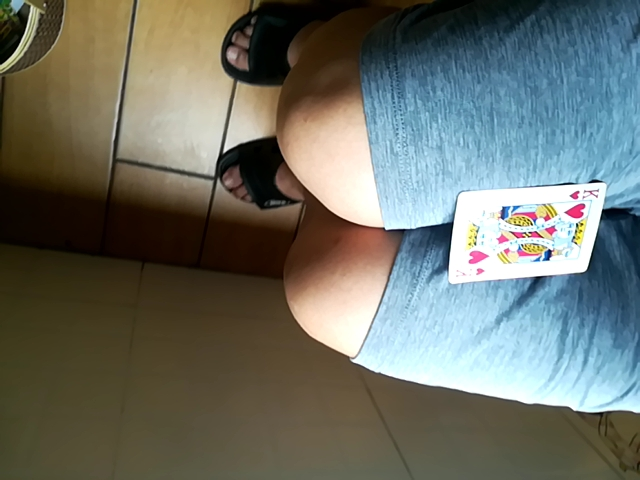hx k: (443, 180, 603, 285)
